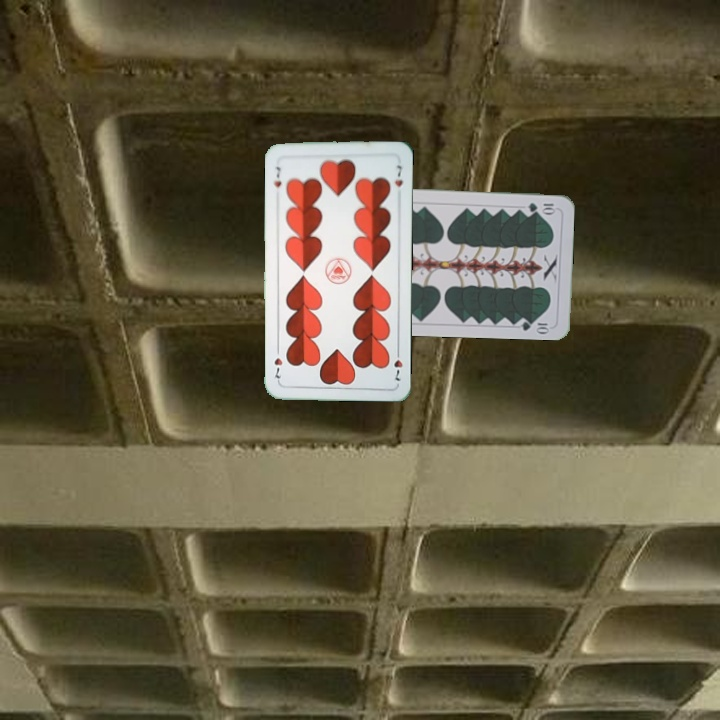G10: (524, 199, 558, 215)
H7: (390, 345, 405, 383), (270, 163, 284, 190)
